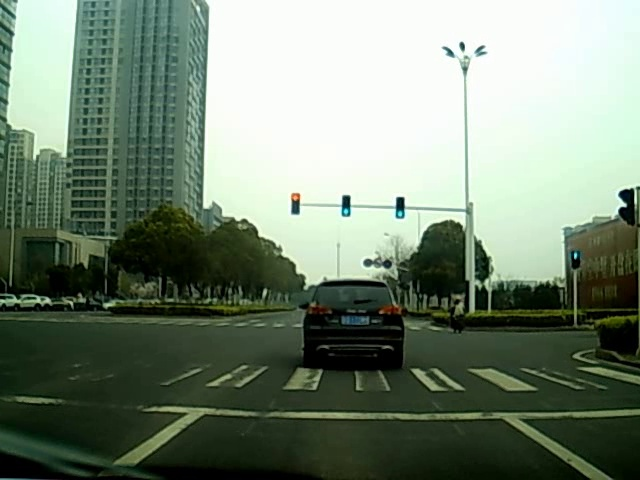Traffic_Light_go: (341, 194, 351, 219), (396, 197, 405, 221)
Traffic_Light_stop: (291, 193, 301, 212)
